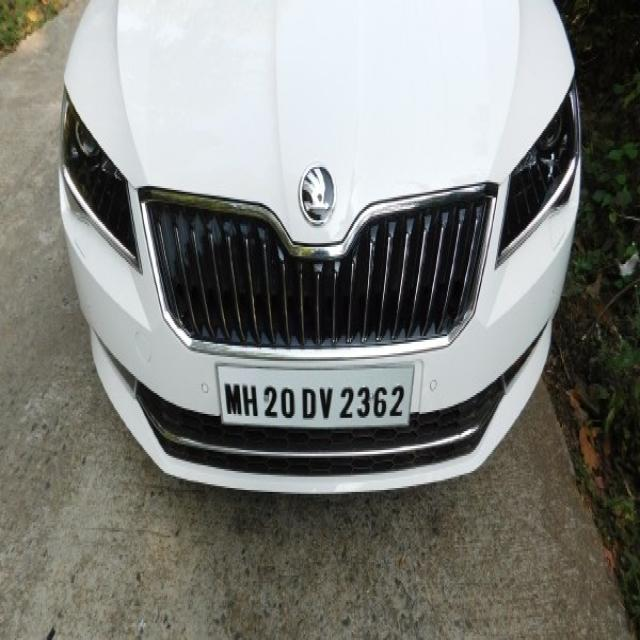number_plate: (214, 359, 411, 429)
